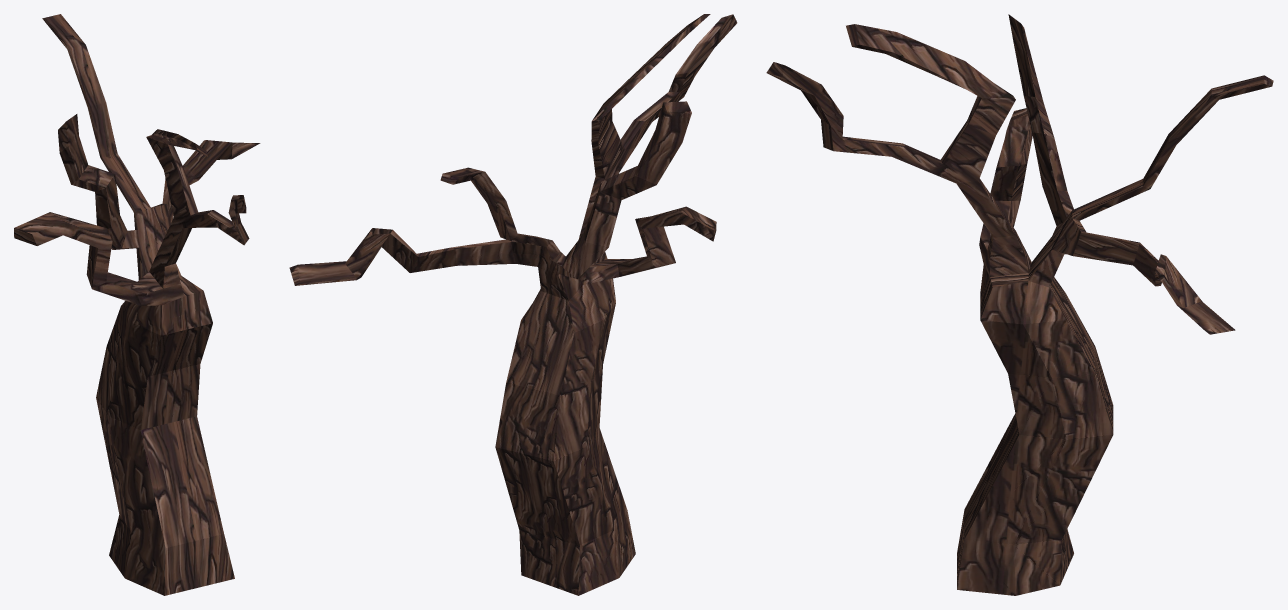
File: Tree1_Fix.fbx
3 views of the same model, side by side, from view 1: azimuth 30°, elevation 25°; view 2: azimuth 150°, elevation 25°; view 3: azimuth 270°, elevation 25° (orthographic). The views are drawn at different scales.
Visible parts, largest first — view 1: Cube.071; view 2: Cube.071; view 3: Cube.071.
Boxes of the visible parts, x1,y1,x2,y2 form: Cube.071: (14,14,260,595); Cube.071: (289,14,737,595); Cube.071: (766,14,1273,595).
Bounding box in the file's own units: 338 × 483 × 427.
1 material, 1 textured.
